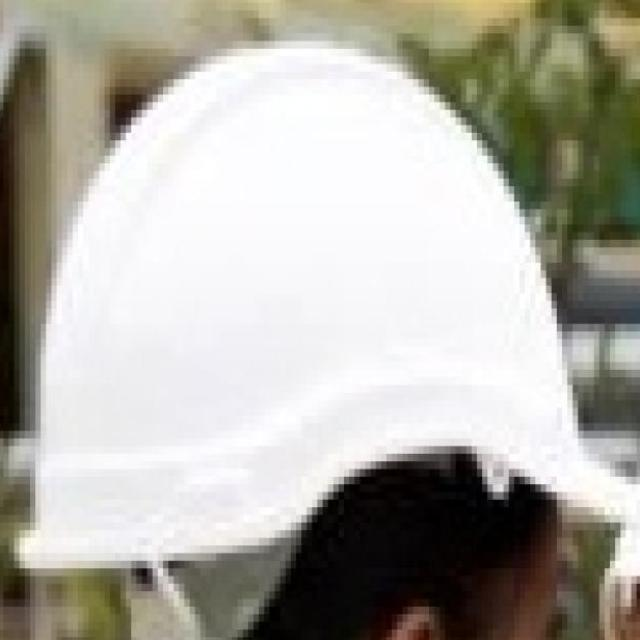helmet: (31, 42, 583, 570)
